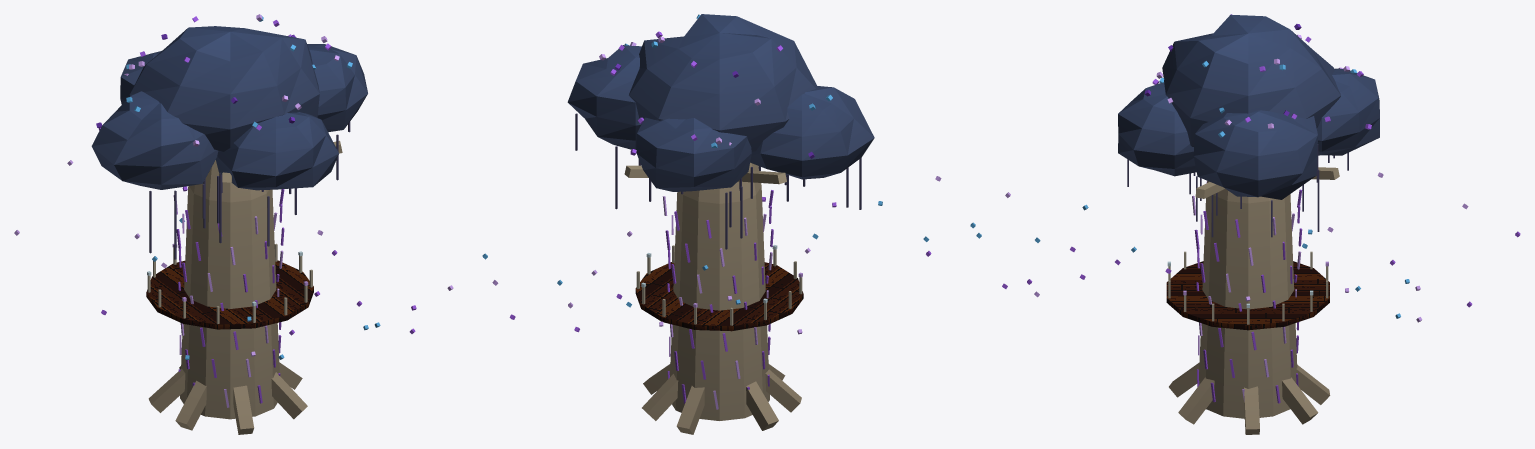
Rendered from silverbark.glb.
The picture shows the model from 3 angles, left to right: view 1: azimuth 30°, elevation 25°; view 2: azimuth 150°, elevation 25°; view 3: azimuth 270°, elevation 25°; orthographic projection.
Parts seen in each view (by area): view 1: silverbark; view 2: silverbark; view 3: silverbark.
Part boxes in pixels (box(x1,y1,x2,y2)): silverbark: box(14, 14, 453, 434); silverbark: box(482, 14, 941, 434); silverbark: box(970, 14, 1520, 434).
Size of the model in its own units: 11.38 by 12.23 by 16.44.
3 materials, 1 textured.
